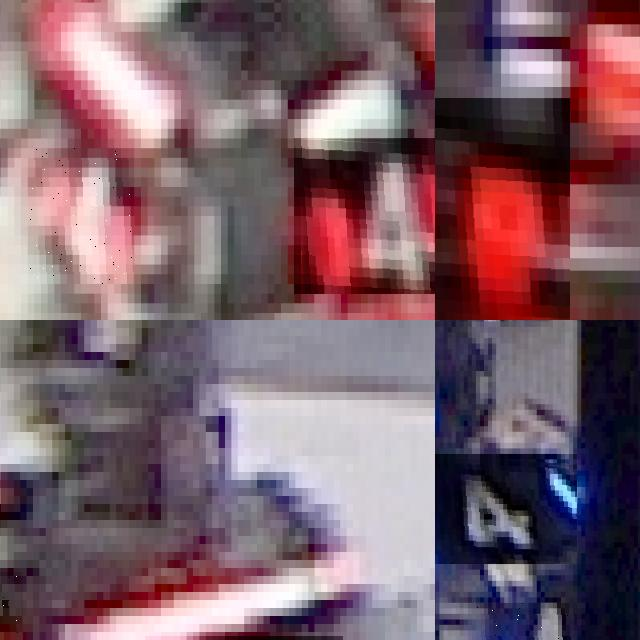B4: (435, 453, 577, 564), (475, 603, 577, 640)
R4: (294, 138, 435, 293), (28, 148, 134, 284)
R5: (435, 98, 570, 320)
